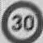Speed limit: (1, 2, 40, 38)
